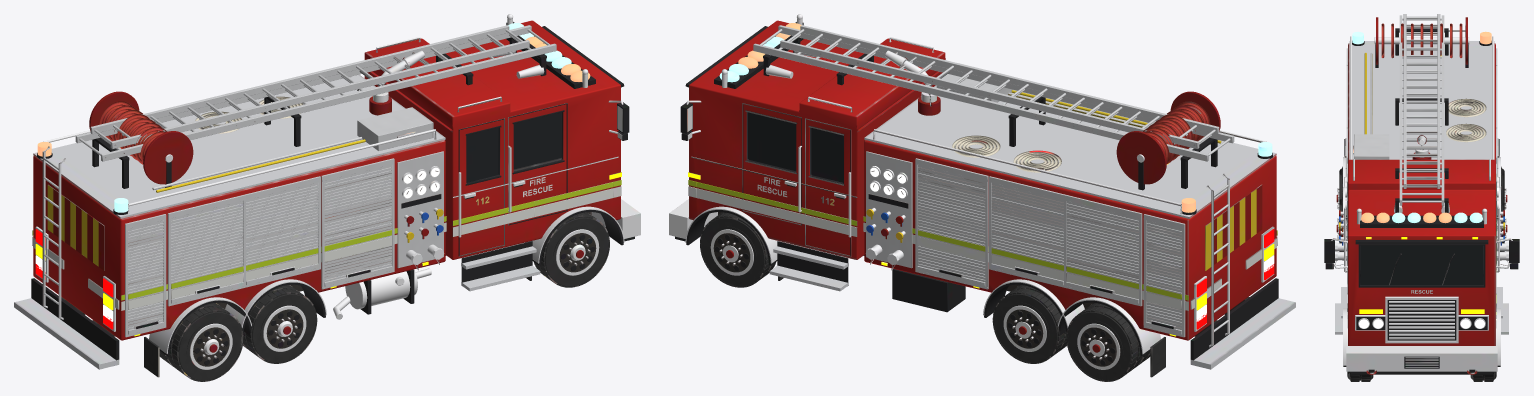
File: truck.glb
The picture shows the model from 3 angles, left to right: view 1: azimuth 30°, elevation 25°; view 2: azimuth 150°, elevation 25°; view 3: azimuth 270°, elevation 25°; orthographic projection. The views are drawn at different scales.
Visible parts, largest first — view 1: AR_truck; view 2: AR_truck; view 3: AR_truck.
Part boxes in pixels (x1=…): AR_truck: x1=14, y1=14, x2=640, y2=381; AR_truck: x1=669, y1=14, x2=1295, y2=381; AR_truck: x1=1324, y1=14, x2=1519, y2=381.
Bounding box in the file's own units: 8.92 × 3.72 × 3.3.
1 material, 1 textured.
